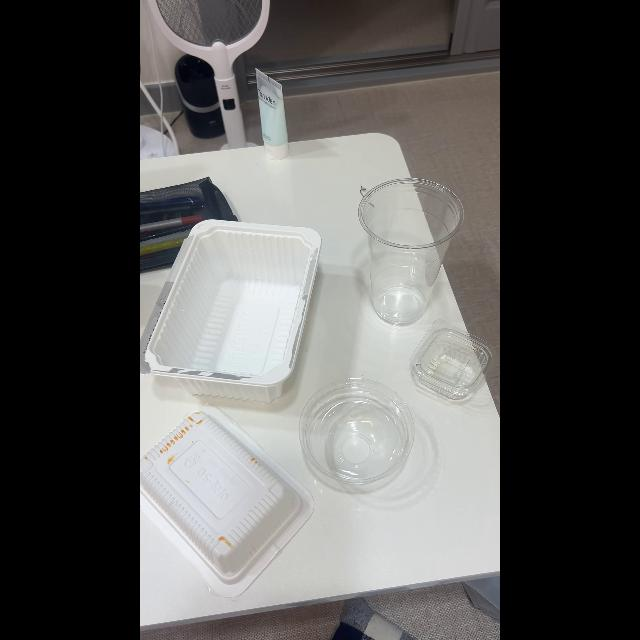clean: (148, 220, 313, 402), (358, 182, 442, 326), (303, 392, 421, 488), (421, 331, 489, 397)
dirty: (143, 408, 290, 584)
